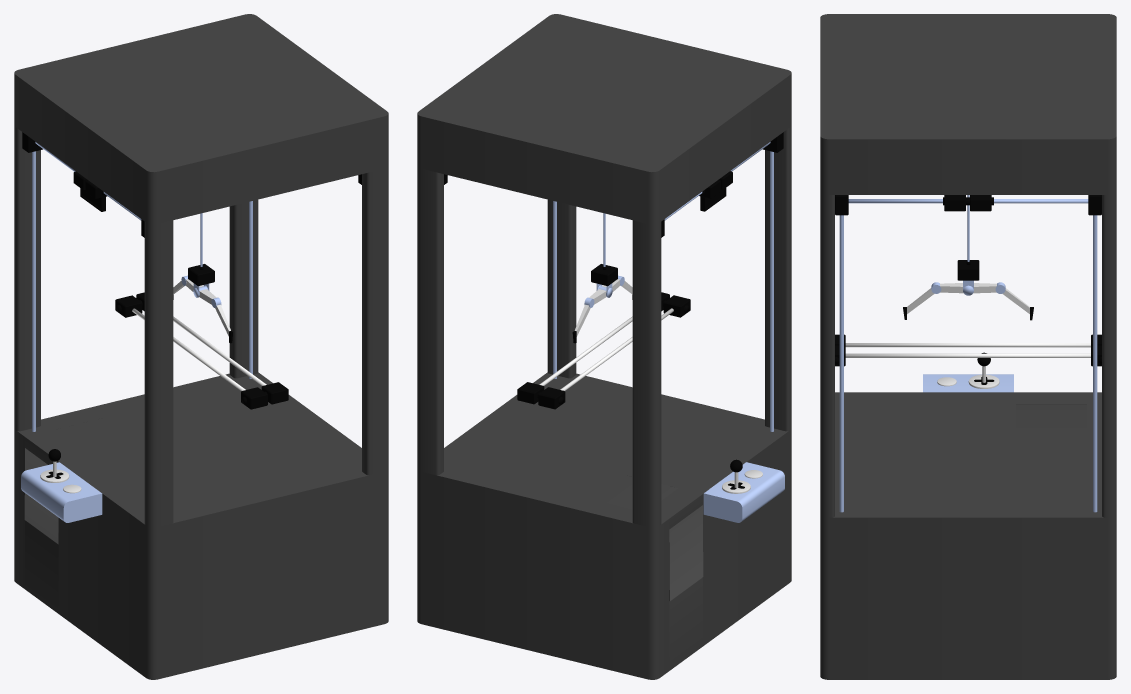
File: stage4_claw_machine.fbx
3 renders of one model, left to right at view 1: azimuth 30°, elevation 25°; view 2: azimuth 150°, elevation 25°; view 3: azimuth 270°, elevation 25°, orthographic. The views are drawn at different scales.
Parts seen in each view (by area): view 1: pasted__pasted__SM_Body, pasted__pasted__SM_Body_Top, pasted__pasted__SM_ControllerBase, pasted__pasted__pasted__pasted__pasted__pasted__SM_Horizonta, pasted__pasted__SM_VerticalBar, pasted__pasted__SM_Hand_Holder; view 2: pasted__pasted__SM_Body, pasted__pasted__SM_Body_Top, pasted__pasted__SM_ControllerBase, pasted__pasted__pasted__pasted__pasted__pasted__SM_Horizonta, pasted__pasted__SM_VerticalBar, pasted__pasted__SM_Hand_Holder; view 3: pasted__pasted__SM_Body, pasted__pasted__SM_Body_Top, pasted__pasted__SM_VerticalBar, pasted__pasted__pasted__pasted__pasted__pasted__SM_Horizonta, pasted__pasted__SM_ControllerBase, pasted__pasted__SM_HorizontalBar_Forward, pasted__pasted__SM_HorizontalBar_Sides, pasted__pasted__SM_Hand_Holder, pasted__pasted__SM_Hand_1, pasted__pasted__SM_Hand_2.
Boxes of the visible parts, left/top/right/bottom form: pasted__pasted__SM_Body: left=14, top=372, right=388, bottom=679; pasted__pasted__SM_Body_Top: left=14, top=14, right=388, bottom=527; pasted__pasted__SM_ControllerBase: left=21, top=462, right=102, bottom=522; pasted__pasted__pasted__pasted__pasted__pasted__SM_Horizonta: left=115, top=292, right=288, bottom=409; pasted__pasted__SM_VerticalBar: left=32, top=151, right=252, bottom=431; pasted__pasted__SM_Hand_Holder: left=188, top=264, right=214, bottom=297; pasted__pasted__SM_Body: left=417, top=372, right=791, bottom=679; pasted__pasted__SM_Body_Top: left=417, top=14, right=791, bottom=527; pasted__pasted__SM_ControllerBase: left=703, top=462, right=784, bottom=522; pasted__pasted__pasted__pasted__pasted__pasted__SM_Horizonta: left=517, top=292, right=690, bottom=409; pasted__pasted__SM_VerticalBar: left=553, top=151, right=773, bottom=431; pasted__pasted__SM_Hand_Holder: left=591, top=264, right=617, bottom=297; pasted__pasted__SM_Body: left=820, top=392, right=1116, bottom=679; pasted__pasted__SM_Body_Top: left=820, top=14, right=1116, bottom=517; pasted__pasted__SM_VerticalBar: left=839, top=215, right=1097, bottom=512; pasted__pasted__pasted__pasted__pasted__pasted__SM_Horizonta: left=835, top=334, right=1101, bottom=366; pasted__pasted__SM_ControllerBase: left=923, top=374, right=1013, bottom=392; pasted__pasted__SM_HorizontalBar_Forward: left=835, top=195, right=1101, bottom=215; pasted__pasted__SM_HorizontalBar_Sides: left=943, top=195, right=993, bottom=211; pasted__pasted__SM_Hand_Holder: left=957, top=260, right=979, bottom=295; pasted__pasted__SM_Hand_1: left=973, top=282, right=1033, bottom=320; pasted__pasted__SM_Hand_2: left=903, top=282, right=963, bottom=319.
Bounding box in the file's own units: 4.78 × 8.29 × 4.12.
